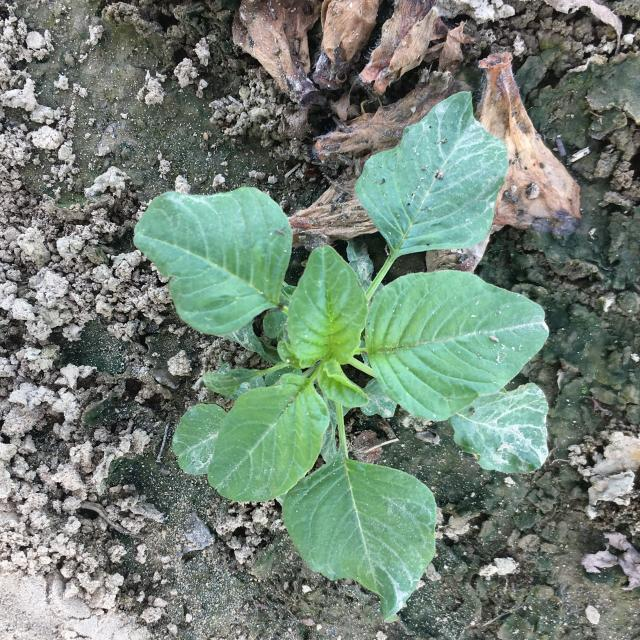PalmerAmaranth: (133, 91, 549, 624)
